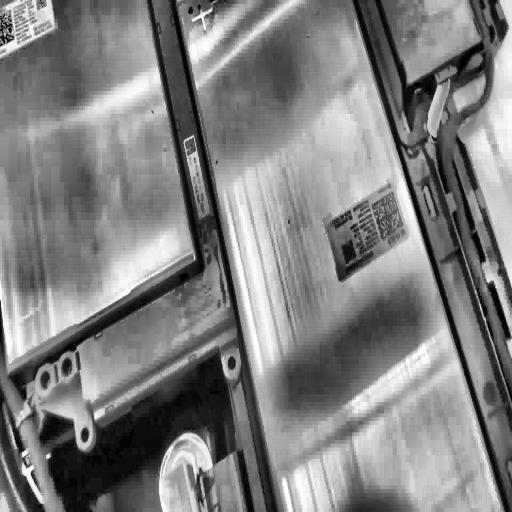battery_module: (176, 3, 505, 507)
busbar: (34, 0, 242, 453)
high_volt_cable: (440, 1, 512, 402)
nut: (60, 359, 72, 378), (38, 373, 51, 389)
